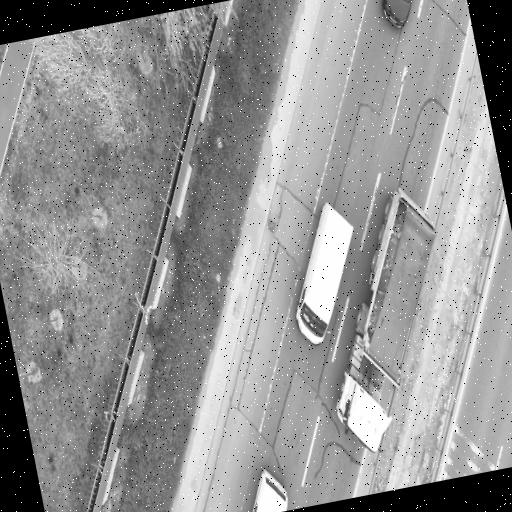car: (295, 202, 352, 343), (252, 469, 287, 511), (382, 0, 412, 27)
truck: (336, 189, 434, 451)
